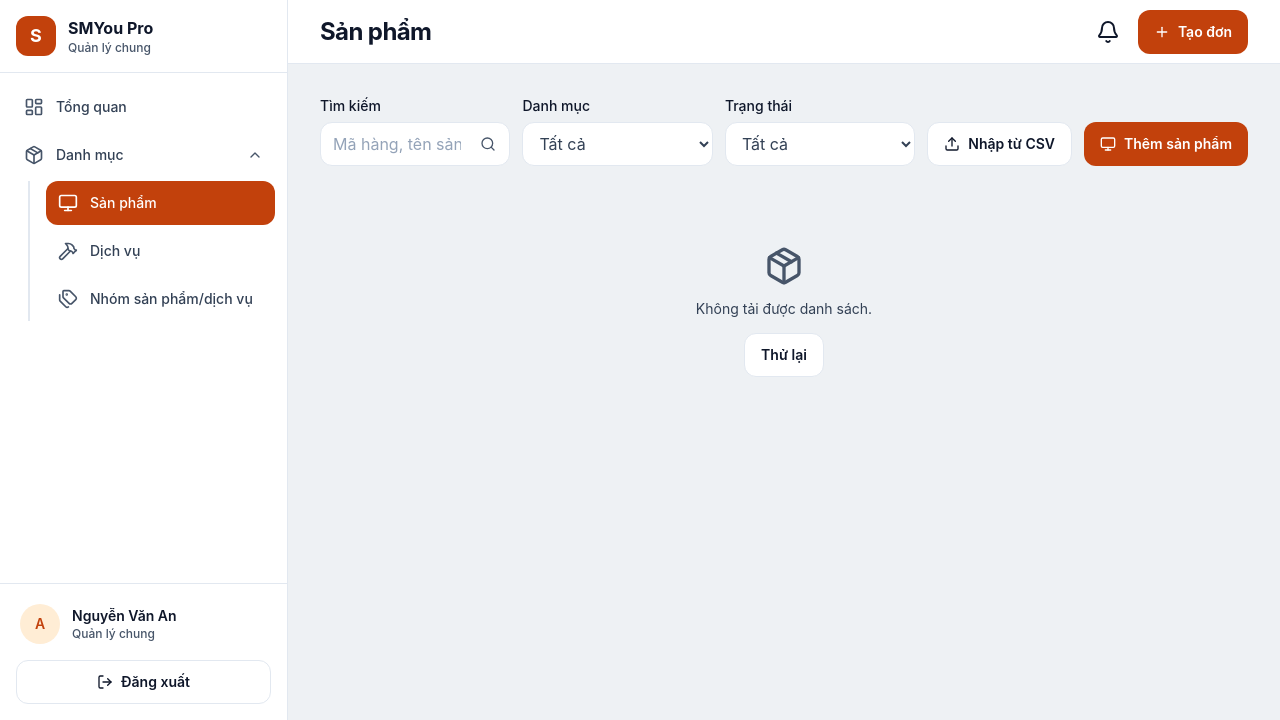
Test: AC-CAT-012 danh sách sản phẩm › trạng thái tải, trống, lỗi + Thử lại
The image size is (1280, 720).
Expected: the text "Không tải được danh sách." is shown, [696,298,872,321]
Click the button "Thử lại" at (784, 355), box [744,333,824,377]
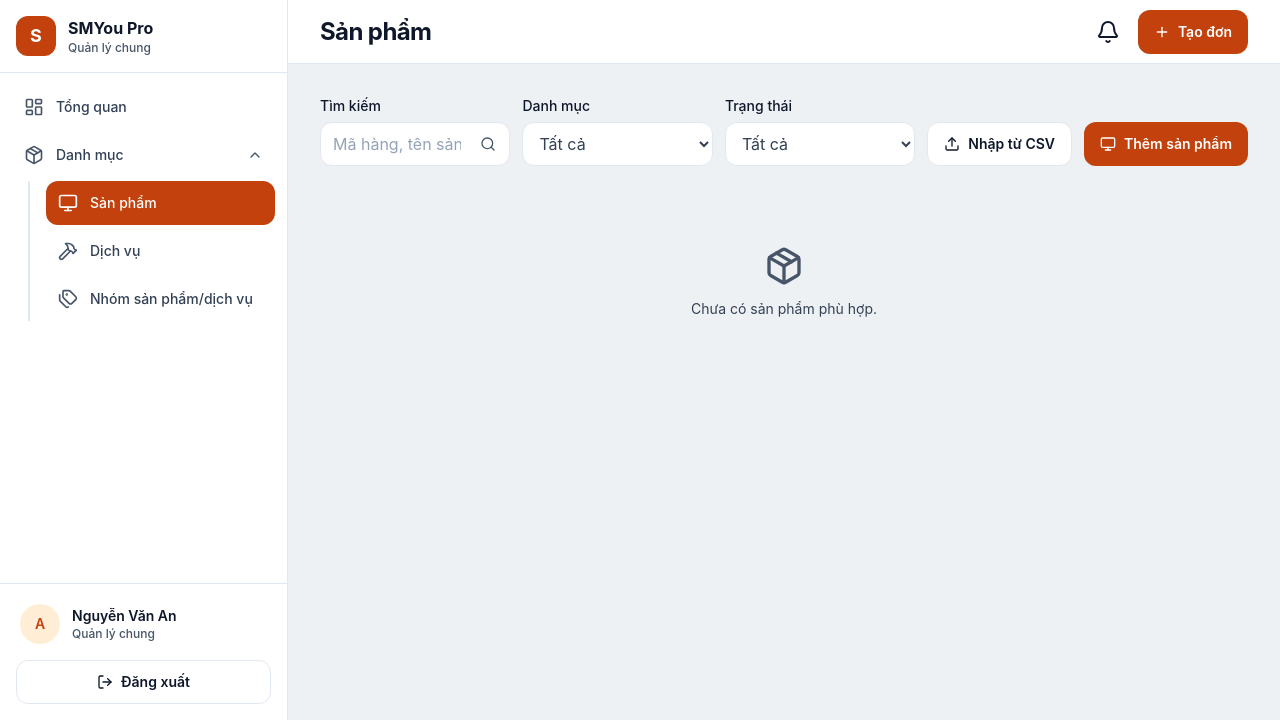
Now the text "Chưa có sản phẩm phù hợp." is shown, box [691,298,877,321]
